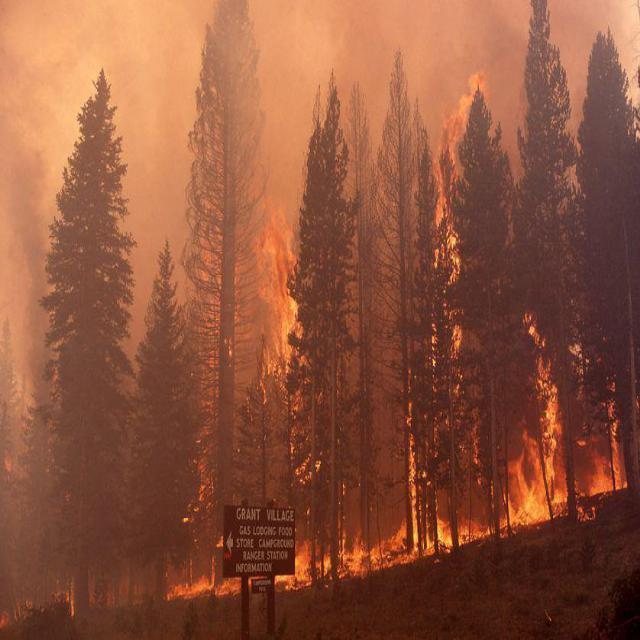Fire: (395, 332, 631, 562), (174, 229, 321, 396), (412, 74, 495, 324), (168, 522, 388, 612)
